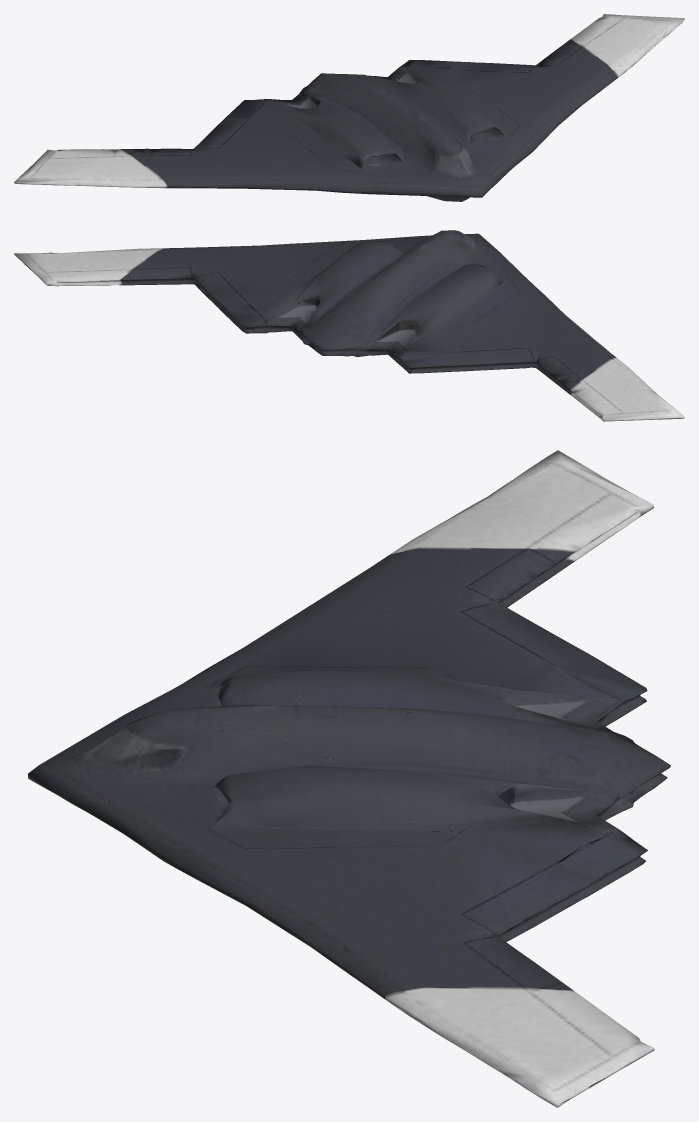
File: realistic-cc0.95bf4458adc9.stealth-bomber.glb
3 views of the same model, one above another, from view 1: azimuth 30°, elevation 25°; view 2: azimuth 150°, elevation 25°; view 3: azimuth 270°, elevation 25° (orthographic). The views are drawn at different scales.
Visible parts, largest first — view 1: stealth-bomber; view 2: stealth-bomber; view 3: stealth-bomber.
Boxes of the visible parts, left/top/right/bottom form: stealth-bomber: left=14, top=14, right=684, bottom=201; stealth-bomber: left=14, top=230, right=684, bottom=421; stealth-bomber: left=28, top=450, right=670, bottom=1107.
Bounding box in the file's own units: 50.57 × 4.49 × 21.
2 materials, 2 textured.
